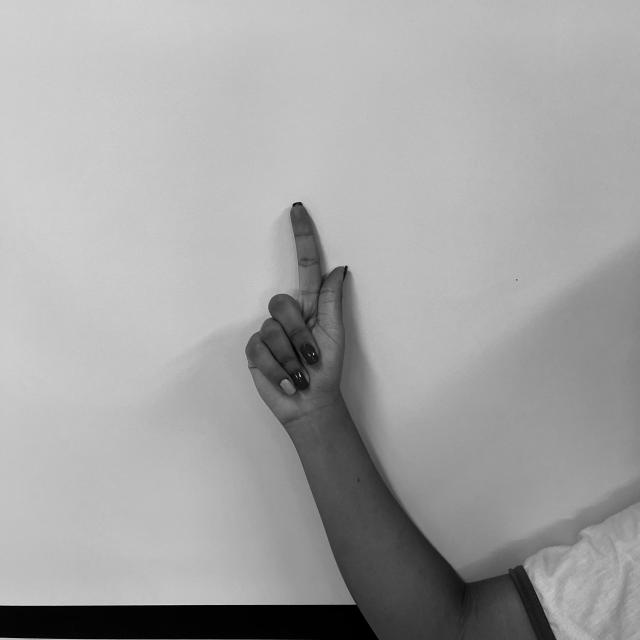Letra G: (237, 193, 358, 419)
